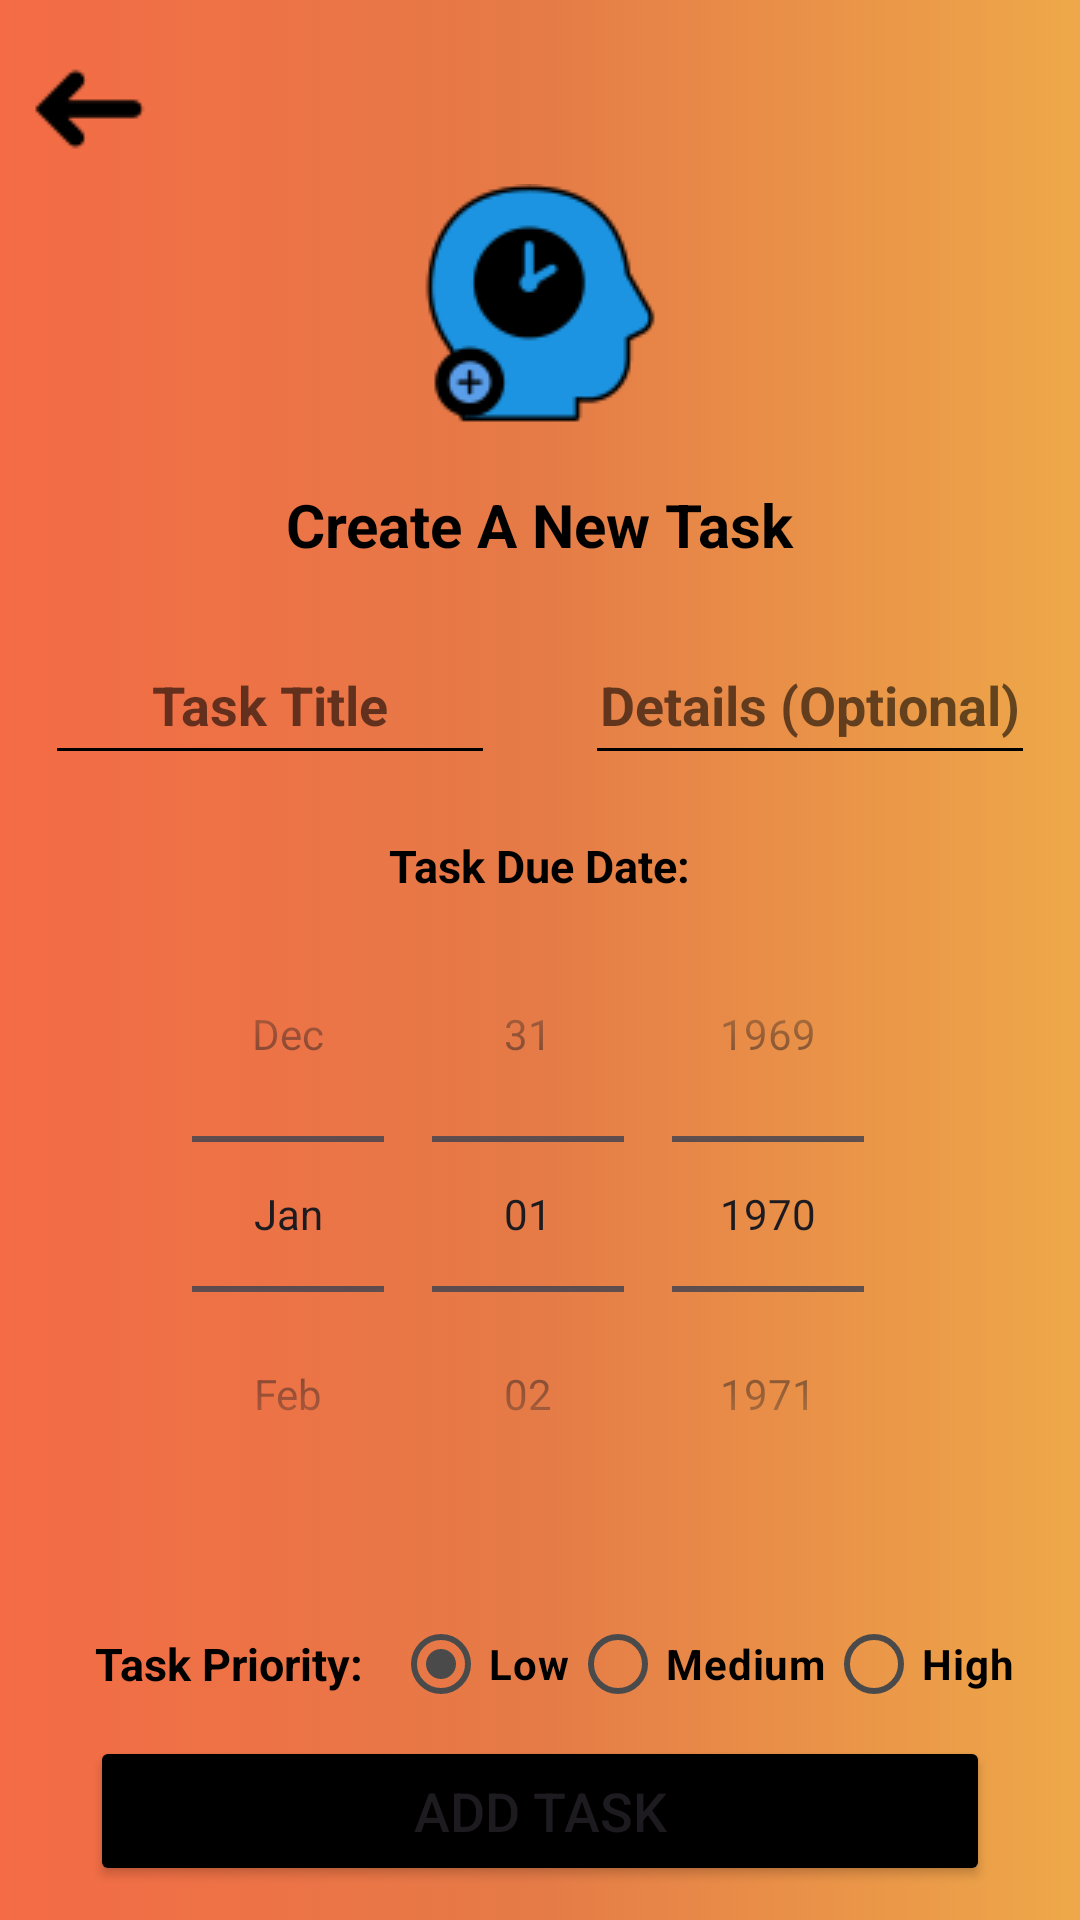

Point at icon controls on the screen. Image size 1080*1920, points as point (x, y).
add new task icon: point (540, 303)
cancel and return: point (89, 109)
